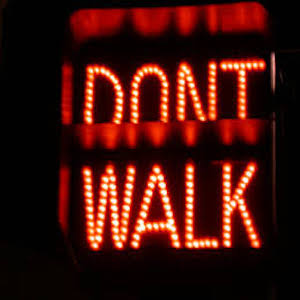red: (51, 25, 254, 261)
